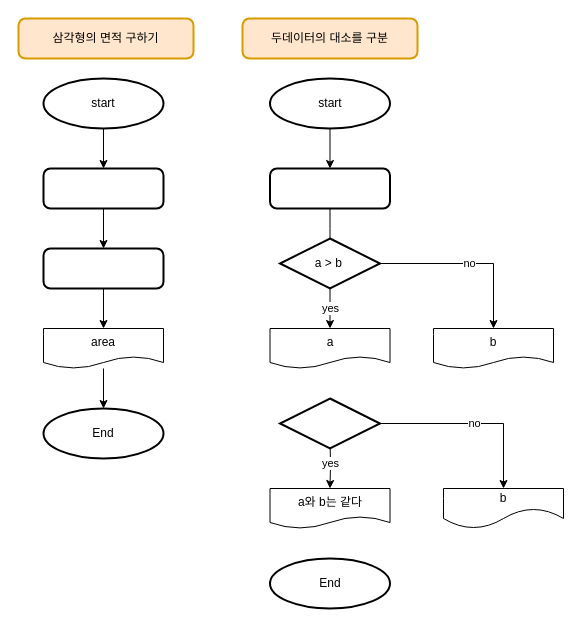
The diagram is 581 pixels wide and 626 high, and some of its shapes have lost their labels. Each missing label, with the centre of its shape:
"a = b" goes at (329,423).
"area = base * height / 2" goes at (103,268).
"a와 b 입력" goes at (329,188).
"base와 height 입력" goes at (103,188).
